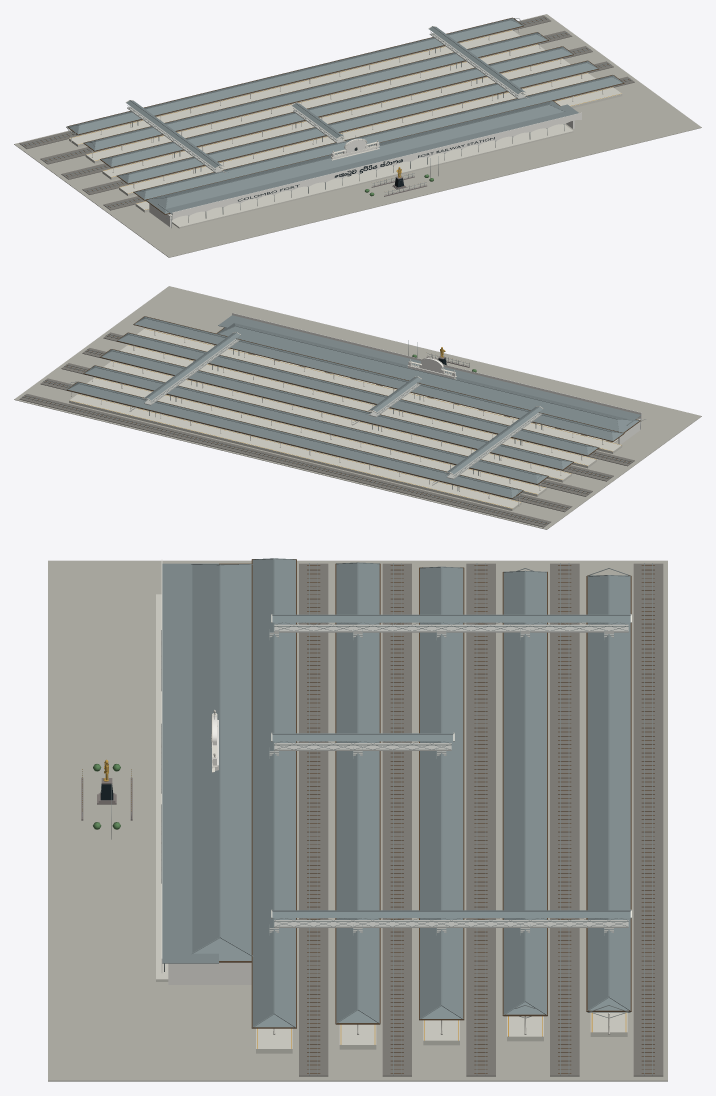
File: map.glb
The picture shows the model from 3 angles, top to bottom: view 1: azimuth 30°, elevation 25°; view 2: azimuth 150°, elevation 25°; view 3: azimuth 270°, elevation 25°; orthographic projection. The views are drawn at different scales.
Bounding box in the file's own units: 250 × 16.27 × 126.
